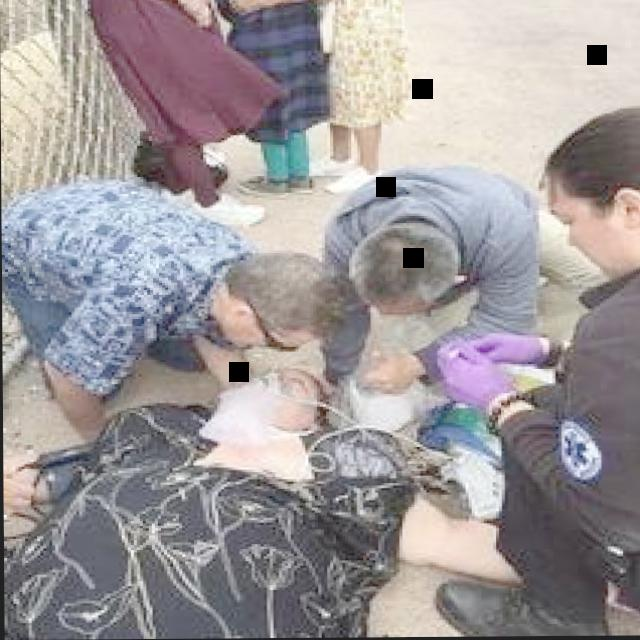Fall-Detected: (2, 338, 493, 640)
